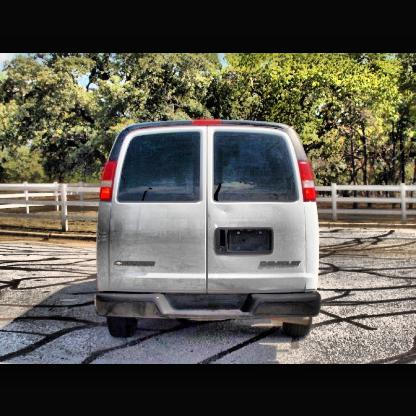Chevrolet Express Cargo Van 2007: (99, 118, 319, 343)
